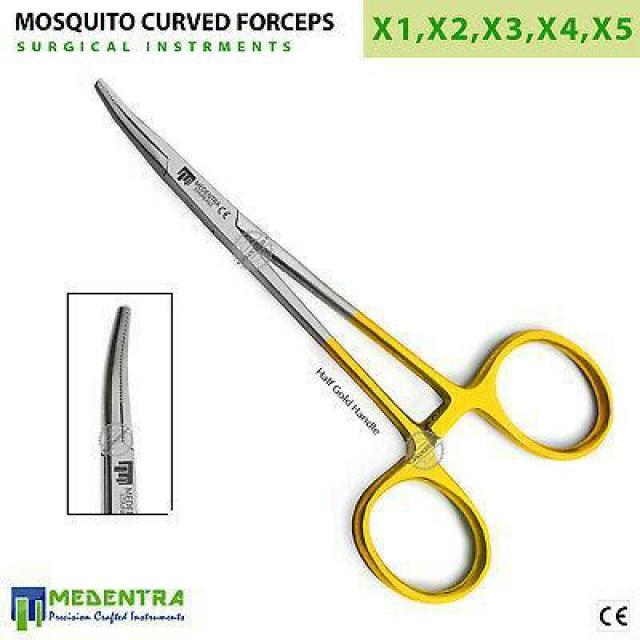Hemostat: (88, 70, 614, 608), (100, 301, 142, 514)
